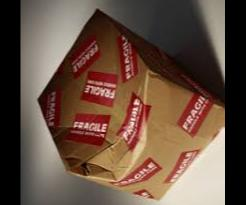damage_box: (34, 7, 224, 202)
